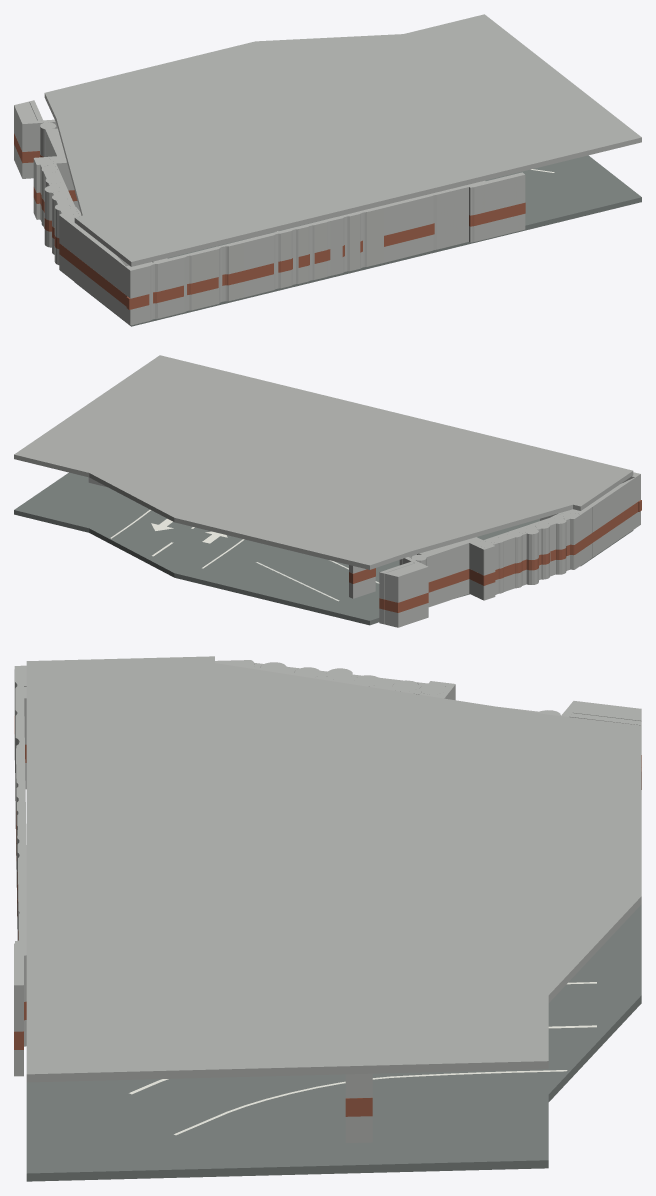
File: B04-parking.glb
3 views of the same model, one above another, from view 1: azimuth 30°, elevation 25°; view 2: azimuth 150°, elevation 25°; view 3: azimuth 270°, elevation 25° (orthographic). The views are drawn at different scales.
Visible parts, largest first — view 1: Proposed | soffit above sector, SOURCE PDF clipped fill 554 part 26, SOURCE approximate sector | graded floor, Proposed | identity paint 26, SOURCE PDF clipped fill 59 part 6, SOURCE PDF clipped fill 447 part 11, SOURCE PDF clipped fill 555 part 27, SOURCE PDF clipped fill 507 part 21, SOURCE PDF clipped fill 446 part 10, SOURCE PDF clipped fill 32 part 4, SOURCE PDF clipped fill 541 part 25, SOURCE PDF clipped fill 558 part 30 (+2 smaller); view 2: Proposed | soffit above sector, SOURCE approximate sector | graded floor, SOURCE PDF clipped fill 447 part 11, SOURCE PDF clipped fill 444 part 8, SOURCE PDF clipped fill 558 part 30, SOURCE PDF clipped fill 446 part 10, SOURCE PDF clipped fill 555 part 27, SOURCE PDF clipped fill 507 part 21, SOURCE PDF clipped fill 541 part 25, SOURCE PDF clipped fill 451 part 15, SOURCE PDF clipped fill 453 part 17, SOURCE PDF clipped fill 454 part 18 (+5 smaller); view 3: Proposed | soffit above sector, SOURCE approximate sector | graded floor, SOURCE PDF clipped fill 554 part 26, SOURCE PDF clipped fill 3 part 0, SOURCE PDF clipped fill 59 part 6, SOURCE PDF clipped fill 447 part 11, PROPOSED TRAFFIC | bounded-parking-aisle | edge, SOURCE PDF clipped fill 558 part 30.
Boxes of the visible parts, left/top/right/bottom form: Proposed | soffit above sector: left=44, top=14, right=641, bottom=266; SOURCE PDF clipped fill 554 part 26: left=127, top=185, right=468, bottom=325; SOURCE approximate sector | graded floor: left=74, top=155, right=641, bottom=326; Proposed | identity paint 26: left=126, top=223, right=434, bottom=309; SOURCE PDF clipped fill 59 part 6: left=485, top=172, right=525, bottom=238; SOURCE PDF clipped fill 447 part 11: left=14, top=101, right=38, bottom=178; SOURCE PDF clipped fill 555 part 27: left=86, top=232, right=111, bottom=310; SOURCE PDF clipped fill 507 part 21: left=62, top=211, right=89, bottom=292; SOURCE PDF clipped fill 446 part 10: left=33, top=155, right=80, bottom=219; SOURCE PDF clipped fill 32 part 4: left=466, top=182, right=484, bottom=242; SOURCE PDF clipped fill 541 part 25: left=75, top=206, right=125, bottom=320; SOURCE PDF clipped fill 558 part 30: left=40, top=163, right=76, bottom=228; Proposed | soffit above sector: left=14, top=355, right=633, bottom=569; SOURCE approximate sector | graded floor: left=14, top=472, right=633, bottom=625; SOURCE PDF clipped fill 447 part 11: left=384, top=562, right=428, bottom=627; SOURCE PDF clipped fill 444 part 8: left=417, top=540, right=469, bottom=607; SOURCE PDF clipped fill 558 part 30: left=483, top=514, right=569, bottom=594; SOURCE PDF clipped fill 446 part 10: left=465, top=537, right=495, bottom=600; SOURCE PDF clipped fill 555 part 27: left=573, top=486, right=622, bottom=550; SOURCE PDF clipped fill 507 part 21: left=560, top=500, right=602, bottom=569; SOURCE PDF clipped fill 541 part 25: left=551, top=477, right=635, bottom=536; SOURCE PDF clipped fill 451 part 15: left=524, top=528, right=538, bottom=584; SOURCE PDF clipped fill 453 part 17: left=551, top=518, right=566, bottom=574; SOURCE PDF clipped fill 454 part 18: left=565, top=513, right=580, bottom=569; Proposed | soffit above sector: left=26, top=656, right=641, bottom=1082; SOURCE approximate sector | graded floor: left=26, top=904, right=641, bottom=1181; SOURCE PDF clipped fill 554 part 26: left=14, top=665, right=26, bottom=940; SOURCE PDF clipped fill 3 part 0: left=345, top=1073, right=372, bottom=1142; SOURCE PDF clipped fill 59 part 6: left=14, top=955, right=23, bottom=1076; SOURCE PDF clipped fill 447 part 11: left=565, top=701, right=641, bottom=721; PROPOSED TRAFFIC | bounded-parking-aisle | edge: left=174, top=982, right=596, bottom=1135; SOURCE PDF clipped fill 558 part 30: left=253, top=663, right=427, bottom=694.
Bounding box in the file's own units: 22.05 × 3.02 × 14.01.
